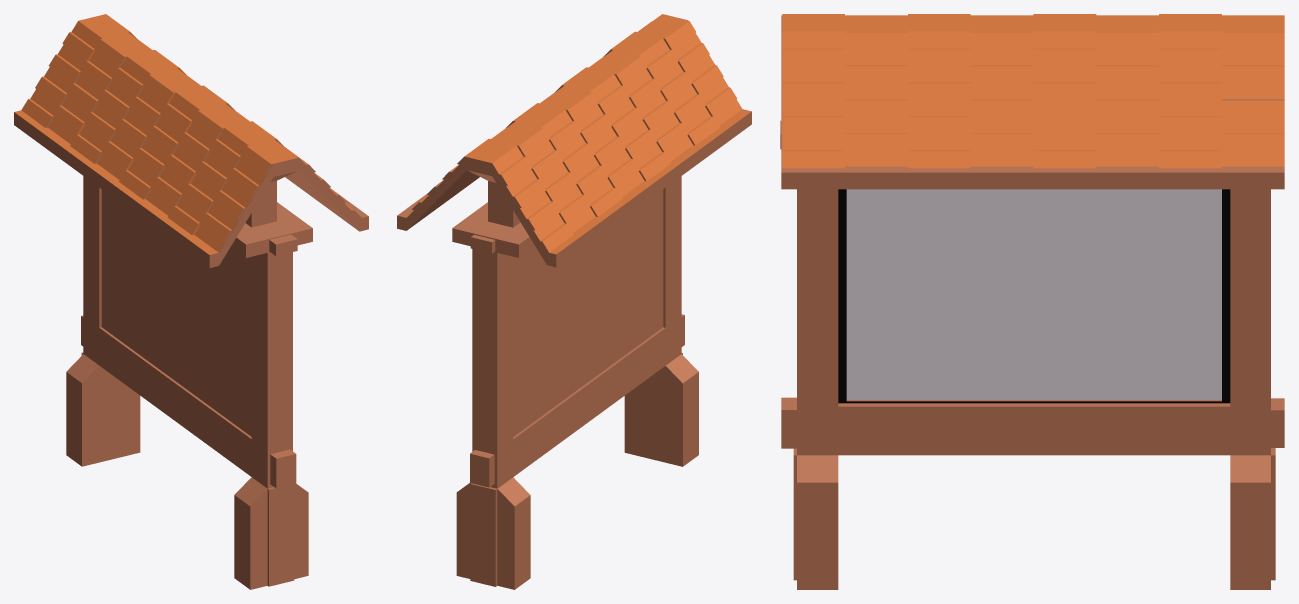
The model's file is Information Board.fbx.
The picture shows the model from 3 angles, left to right: view 1: azimuth 30°, elevation 25°; view 2: azimuth 150°, elevation 25°; view 3: azimuth 270°, elevation 25°; orthographic projection. The views are drawn at different scales.
Visible parts, largest first — view 1: Cube; view 2: Cube; view 3: Cube.
Part boxes in pixels (left/top/right/bottom): Cube: left=14, top=14, right=368, bottom=589; Cube: left=397, top=14, right=751, bottom=589; Cube: left=780, top=14, right=1284, bottom=589.
Size of the model in its own units: 710 by 1816 by 1512.
